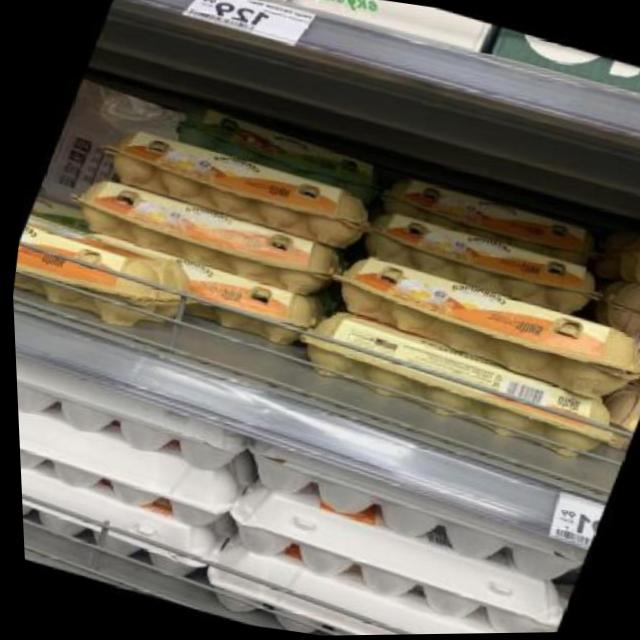Egg: (313, 243, 640, 414), (80, 114, 385, 261), (48, 166, 357, 310), (342, 199, 614, 329), (366, 164, 616, 277), (8, 216, 194, 342), (582, 270, 640, 347)
